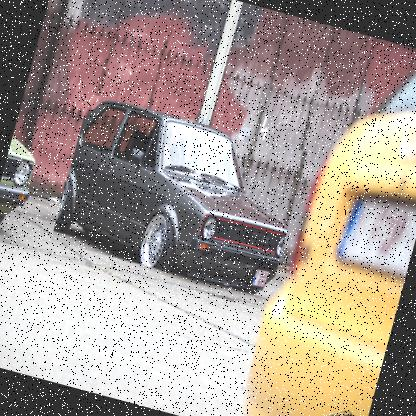Car: (232, 28, 415, 415), (50, 93, 311, 300), (0, 132, 43, 233)
